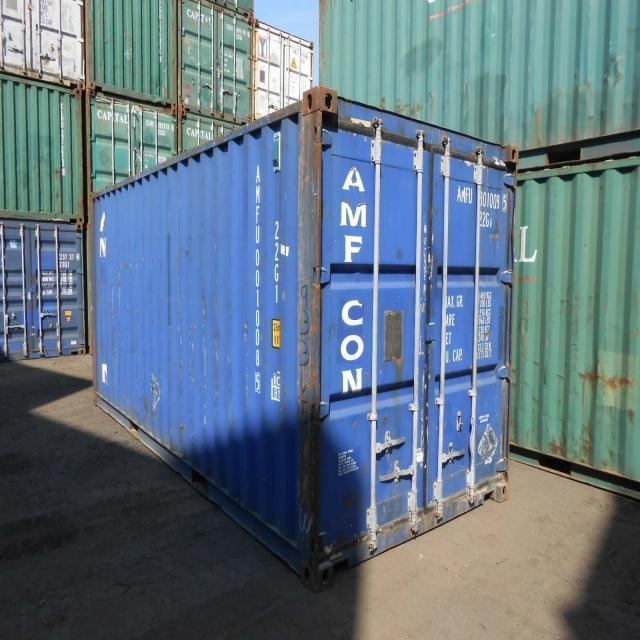container_number_h: (455, 178, 510, 250)
container_number_v: (245, 157, 268, 409)
